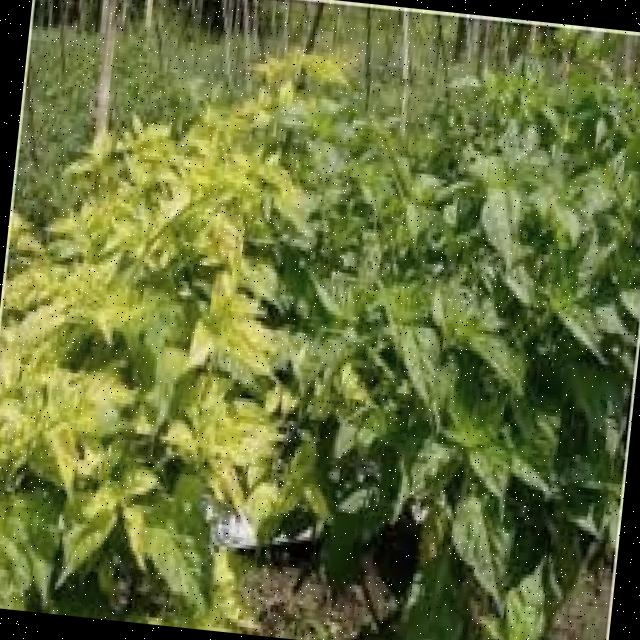leaf curl: (320, 120, 602, 561), (0, 162, 268, 576)
